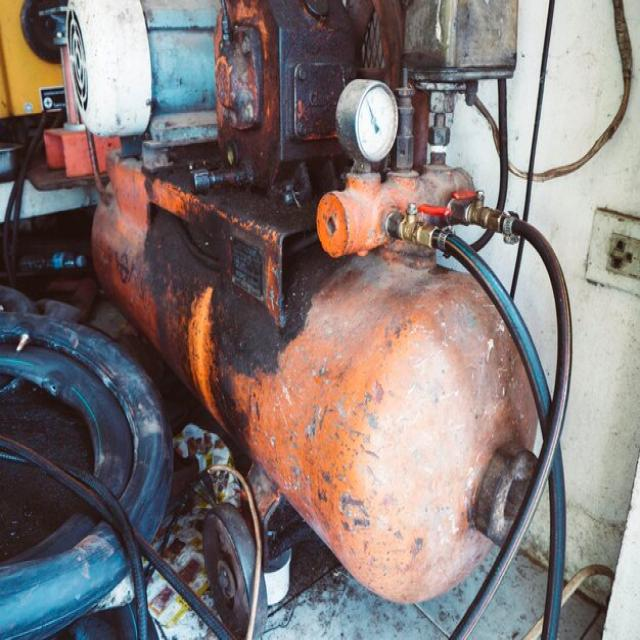compressor: (61, 0, 572, 633)
corrosion detected: (190, 0, 362, 197), (398, 0, 519, 83), (332, 75, 401, 170)
